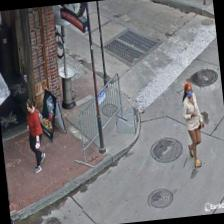person: (180, 80, 209, 169), (22, 96, 48, 173)
